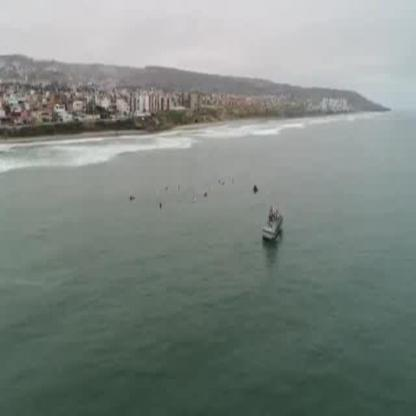Boat: (260, 208, 284, 240)
